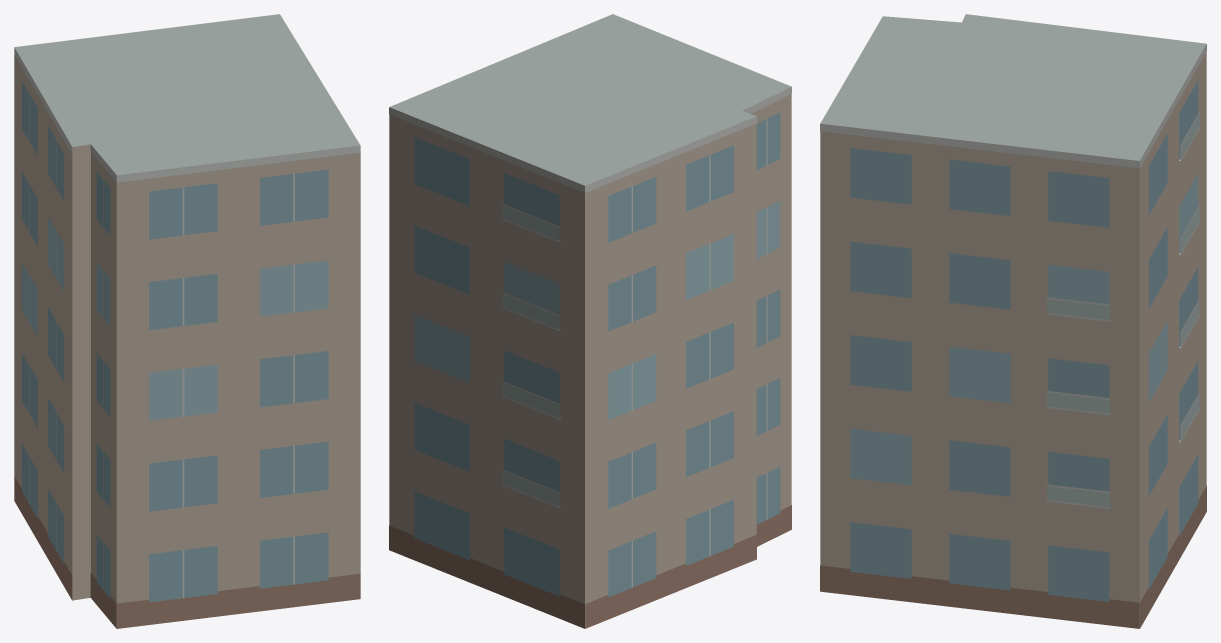
Rendered from survey-upis-32660216.glb.
3 views of the same model, side by side, from view 1: azimuth 30°, elevation 25°; view 2: azimuth 150°, elevation 25°; view 3: azimuth 270°, elevation 25° (orthographic). The views are drawn at different scales.
Visible parts, largest first — view 1: survey-upis-32660216.tmp; view 2: survey-upis-32660216.tmp; view 3: survey-upis-32660216.tmp.
Part boxes in pixels (x1=…): survey-upis-32660216.tmp: x1=14, y1=14, x2=360, y2=628; survey-upis-32660216.tmp: x1=389, y1=14, x2=791, y2=628; survey-upis-32660216.tmp: x1=820, y1=14, x2=1206, y2=628.
Bounding box in the file's own units: 10.28 × 15.25 × 11.43.
